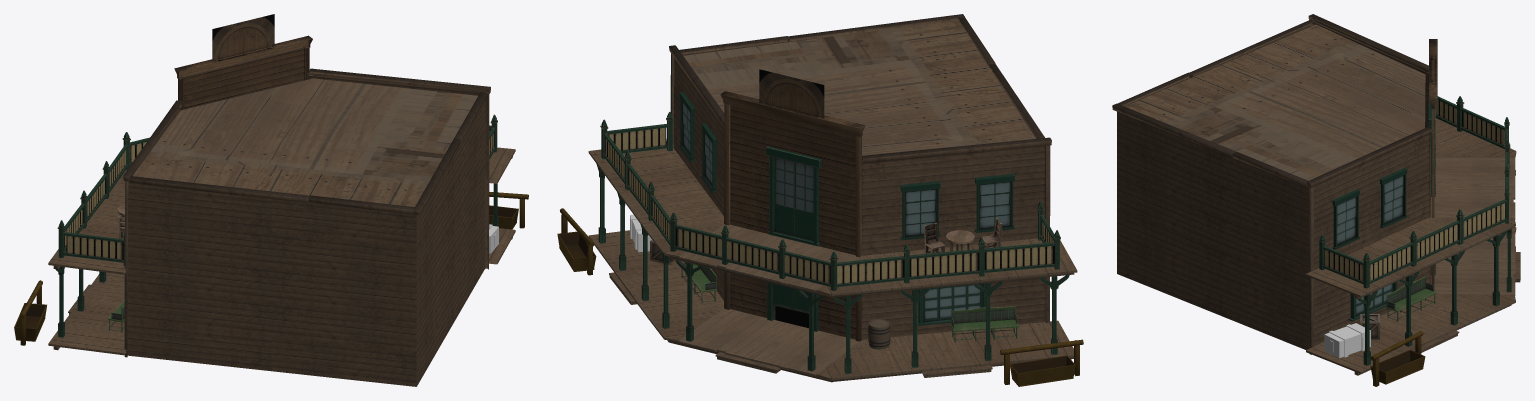
The model's file is saloon.obj.
3 renders of one model, left to right at view 1: azimuth 30°, elevation 25°; view 2: azimuth 150°, elevation 25°; view 3: azimuth 270°, elevation 25°, orthographic. The views are drawn at different scales.
Parts seen in each view (by area): view 1: sideWall_LP4, pCube8, floor, balcony10, floor1, sideWall_LP5, pCylinder23, sideWall_LP9, pCylinder4, sideWall_LP6, column6; view 2: sideWall_LP4, pCube8, floor, floor1, balcony10, pCube3, balcony15, pCube5, balcony9, pCylinder23, column6, windowsLP_pCube4 (+15 smaller); view 3: sideWall_LP4, pCube8, floor1, floor, balcony9, pCube6, column7, balcony10, sideWall_LP9, pCylinder4, rectangleBoxLP_polySurface5, bench_LP (+5 smaller).
Part boxes in pixels (<box>): sideWall_LP4: <box>123,14,490,386</box>; pCube8: <box>133,78,477,206</box>; floor: <box>48,228,515,355</box>; balcony10: <box>57,144,127,265</box>; floor1: <box>48,147,515,274</box>; sideWall_LP5: <box>129,176,309,202</box>; pCylinder23: <box>14,280,46,345</box>; sideWall_LP9: <box>413,92,486,214</box>; pCylinder4: <box>489,192,528,229</box>; sideWall_LP6: <box>308,195,414,214</box>; column6: <box>55,266,106,337</box>; sideWall_LP4: <box>669,21,1051,341</box>; pCube8: <box>683,20,1035,155</box>; floor: <box>588,230,1073,382</box>; floor1: <box>588,141,1077,297</box>; balcony10: <box>836,201,1060,287</box>; pCube3: <box>766,146,821,246</box>; balcony15: <box>669,212,838,290</box>; pCube5: <box>900,174,1014,240</box>; balcony9: <box>600,112,673,245</box>; pCylinder23: <box>1000,339,1083,386</box>; column6: <box>833,275,1069,374</box>; windowsLP_pCube4: <box>917,283,985,325</box>; sideWall_LP4: <box>1117,14,1437,354</box>; pCube8: <box>1125,24,1425,180</box>; floor1: <box>1306,118,1516,299</box>; floor: <box>1306,227,1516,375</box>; balcony9: <box>1318,199,1507,288</box>; pCube6: <box>1332,168,1407,249</box>; column7: <box>1358,231,1506,365</box>; balcony10: <box>1435,96,1504,148</box>; sideWall_LP9: <box>1112,103,1308,188</box>; pCylinder4: <box>1370,331,1425,386</box>; rectangleBoxLP_polySurface5: <box>1324,323,1370,358</box>; bench_LP: <box>1386,276,1436,321</box>.
Bounding box in the file's own units: 42.37 × 19.57 × 31.34.
